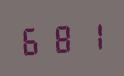eight: (48, 21, 76, 54)
one: (77, 18, 105, 52)
six: (18, 23, 46, 57)
